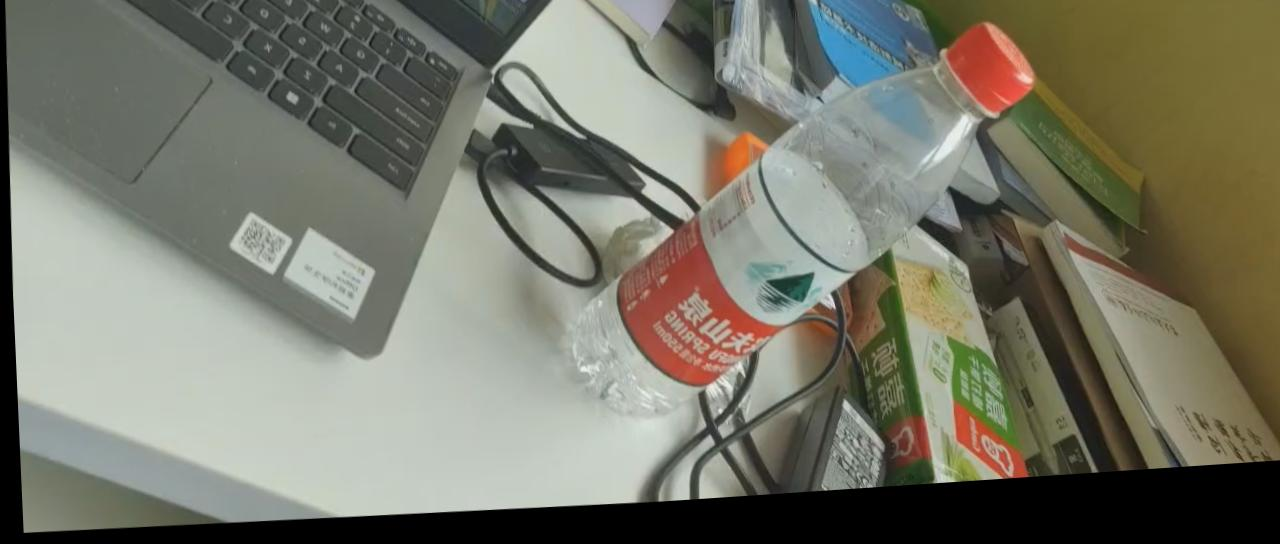plastic: (570, 3, 1029, 495)
